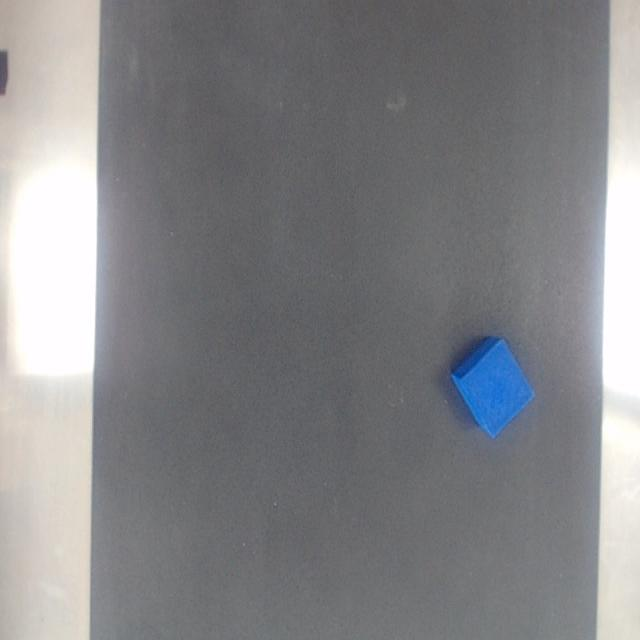Azul: (450, 336, 534, 439)
